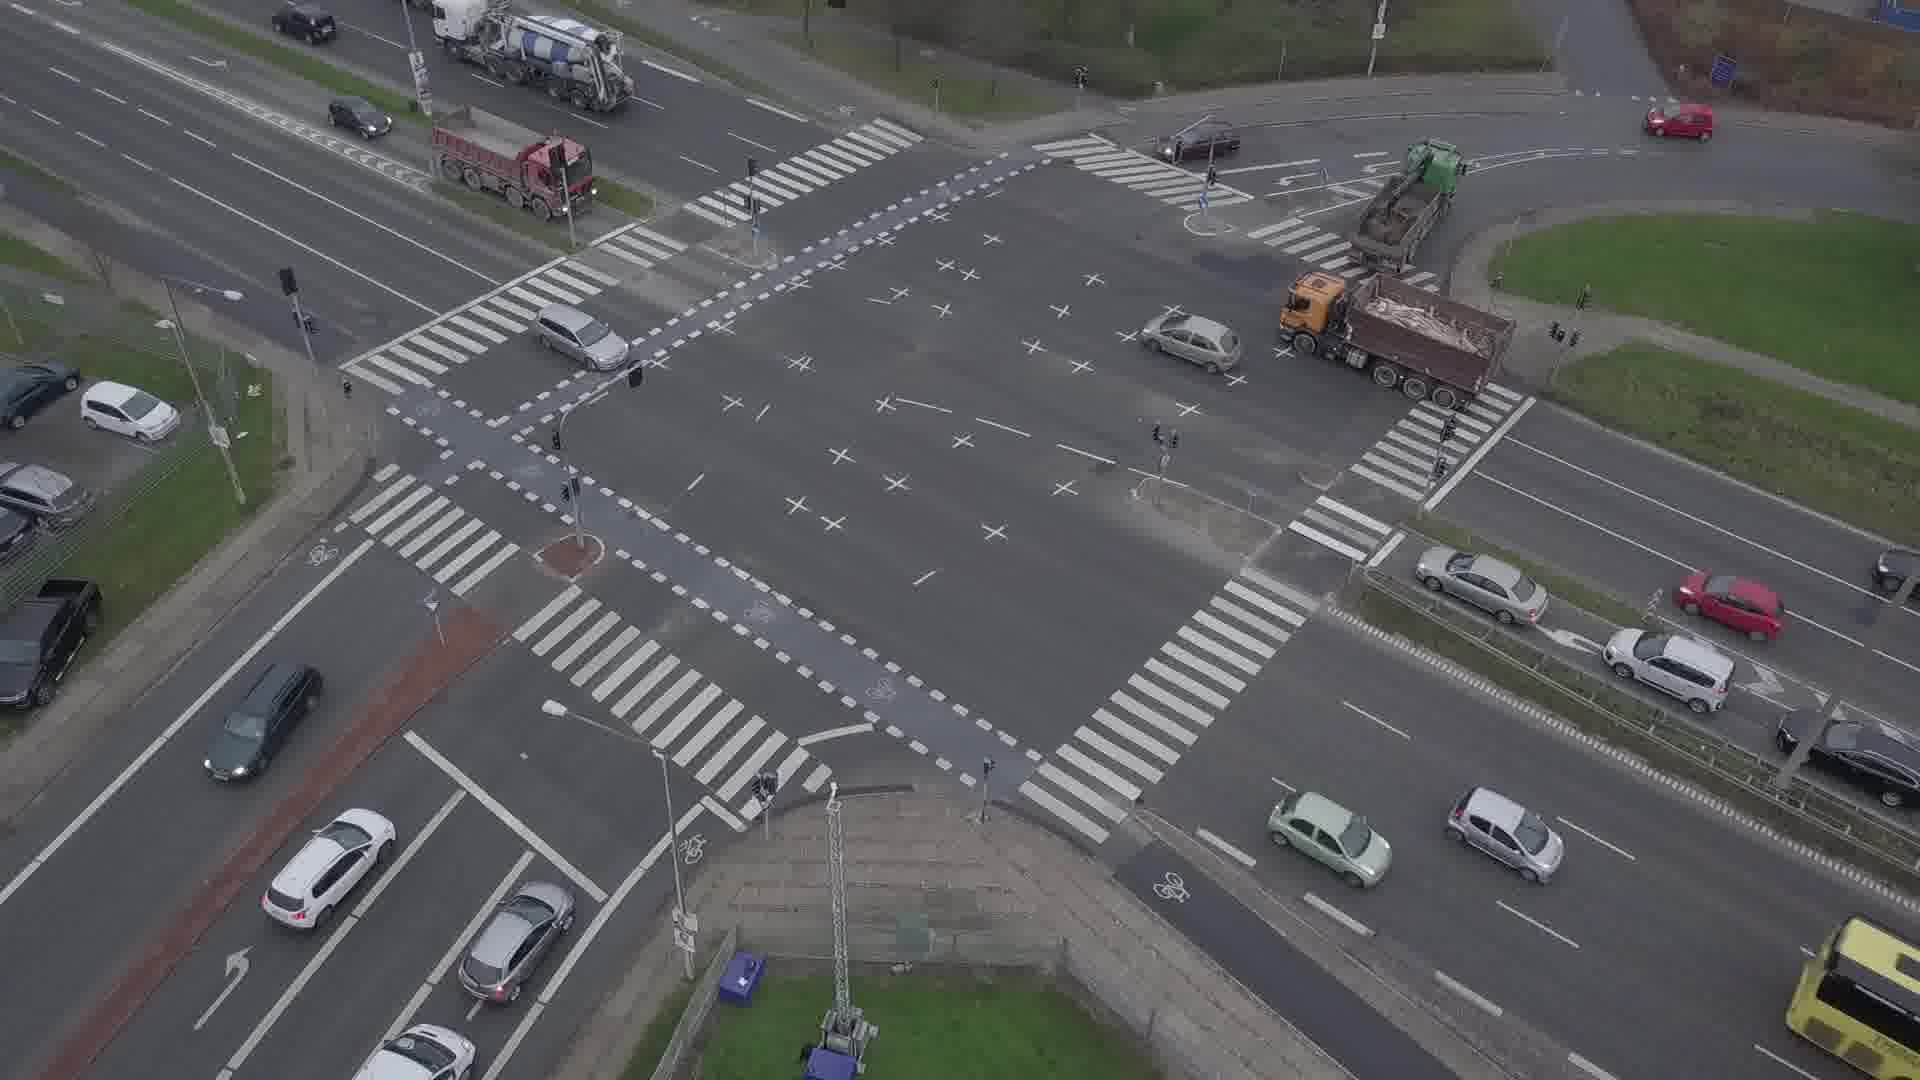car: (261, 808, 397, 929), (457, 881, 575, 1004), (203, 661, 321, 782), (1778, 710, 1920, 808), (1269, 791, 1391, 887), (1602, 627, 1737, 713), (1447, 787, 1564, 881), (1416, 545, 1550, 626), (1676, 572, 1784, 643), (532, 304, 629, 371), (1141, 315, 1242, 373), (326, 94, 392, 141), (1159, 121, 1241, 158), (1647, 104, 1715, 141), (272, 6, 337, 44)
lorry: (1279, 271, 1516, 410), (431, 0, 634, 112), (429, 105, 598, 219), (1348, 140, 1469, 274), (346, 1024, 476, 1080)
